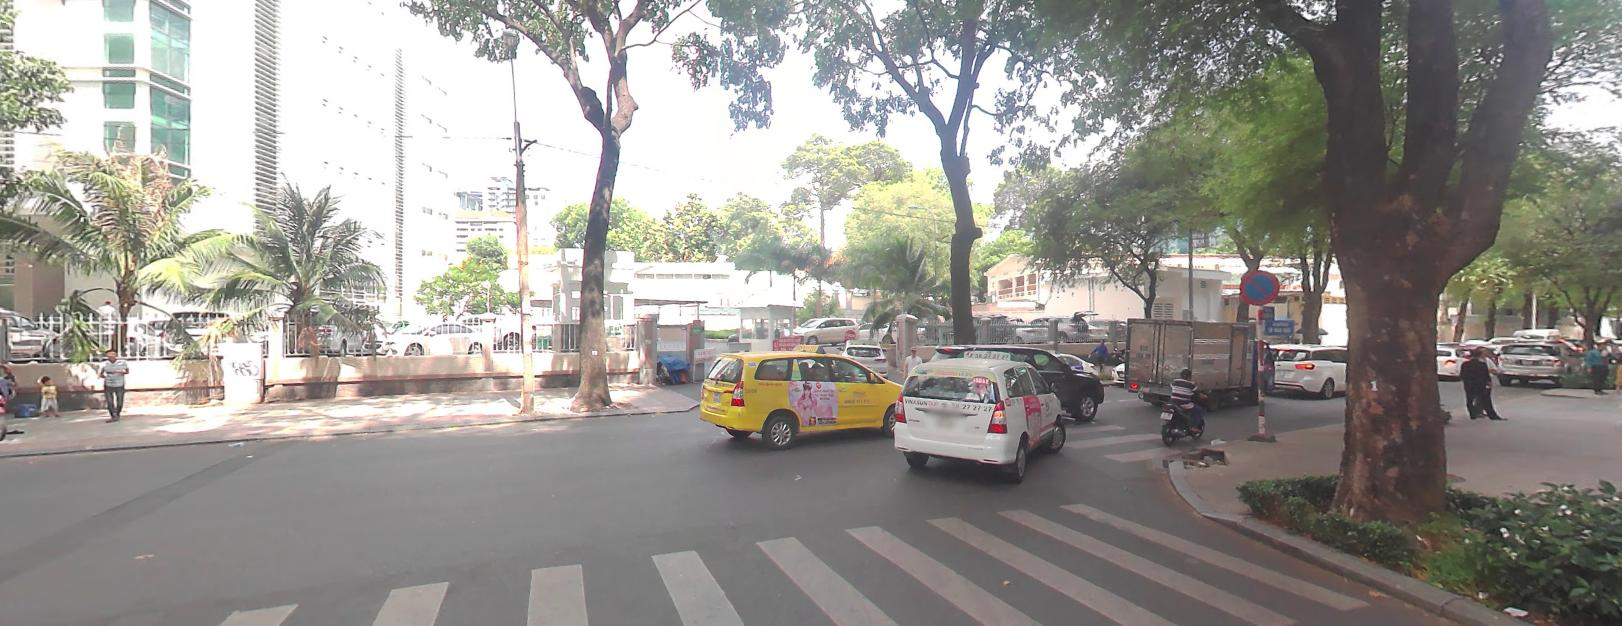Cam dung va do: (1238, 268, 1280, 304)
